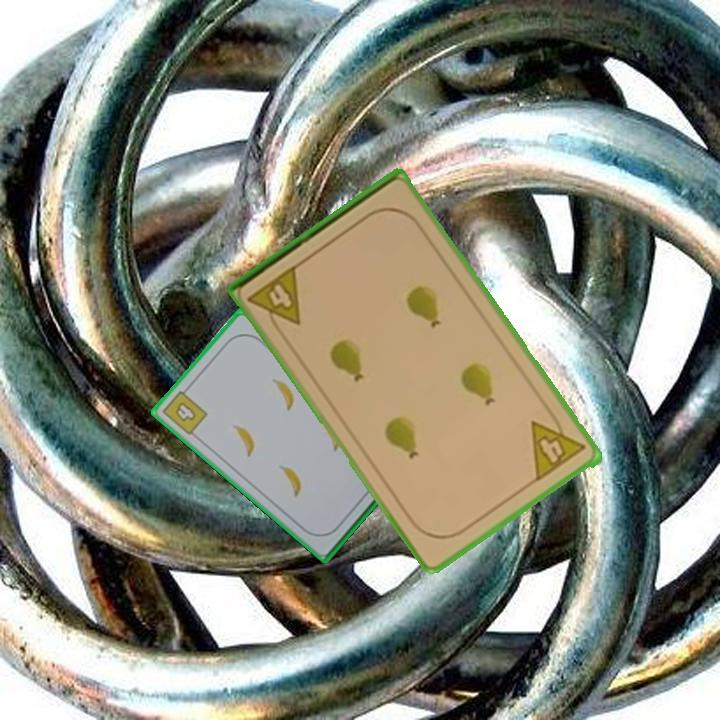4b: (159, 382, 210, 438)
4p: (527, 407, 589, 485), (244, 261, 305, 338)
